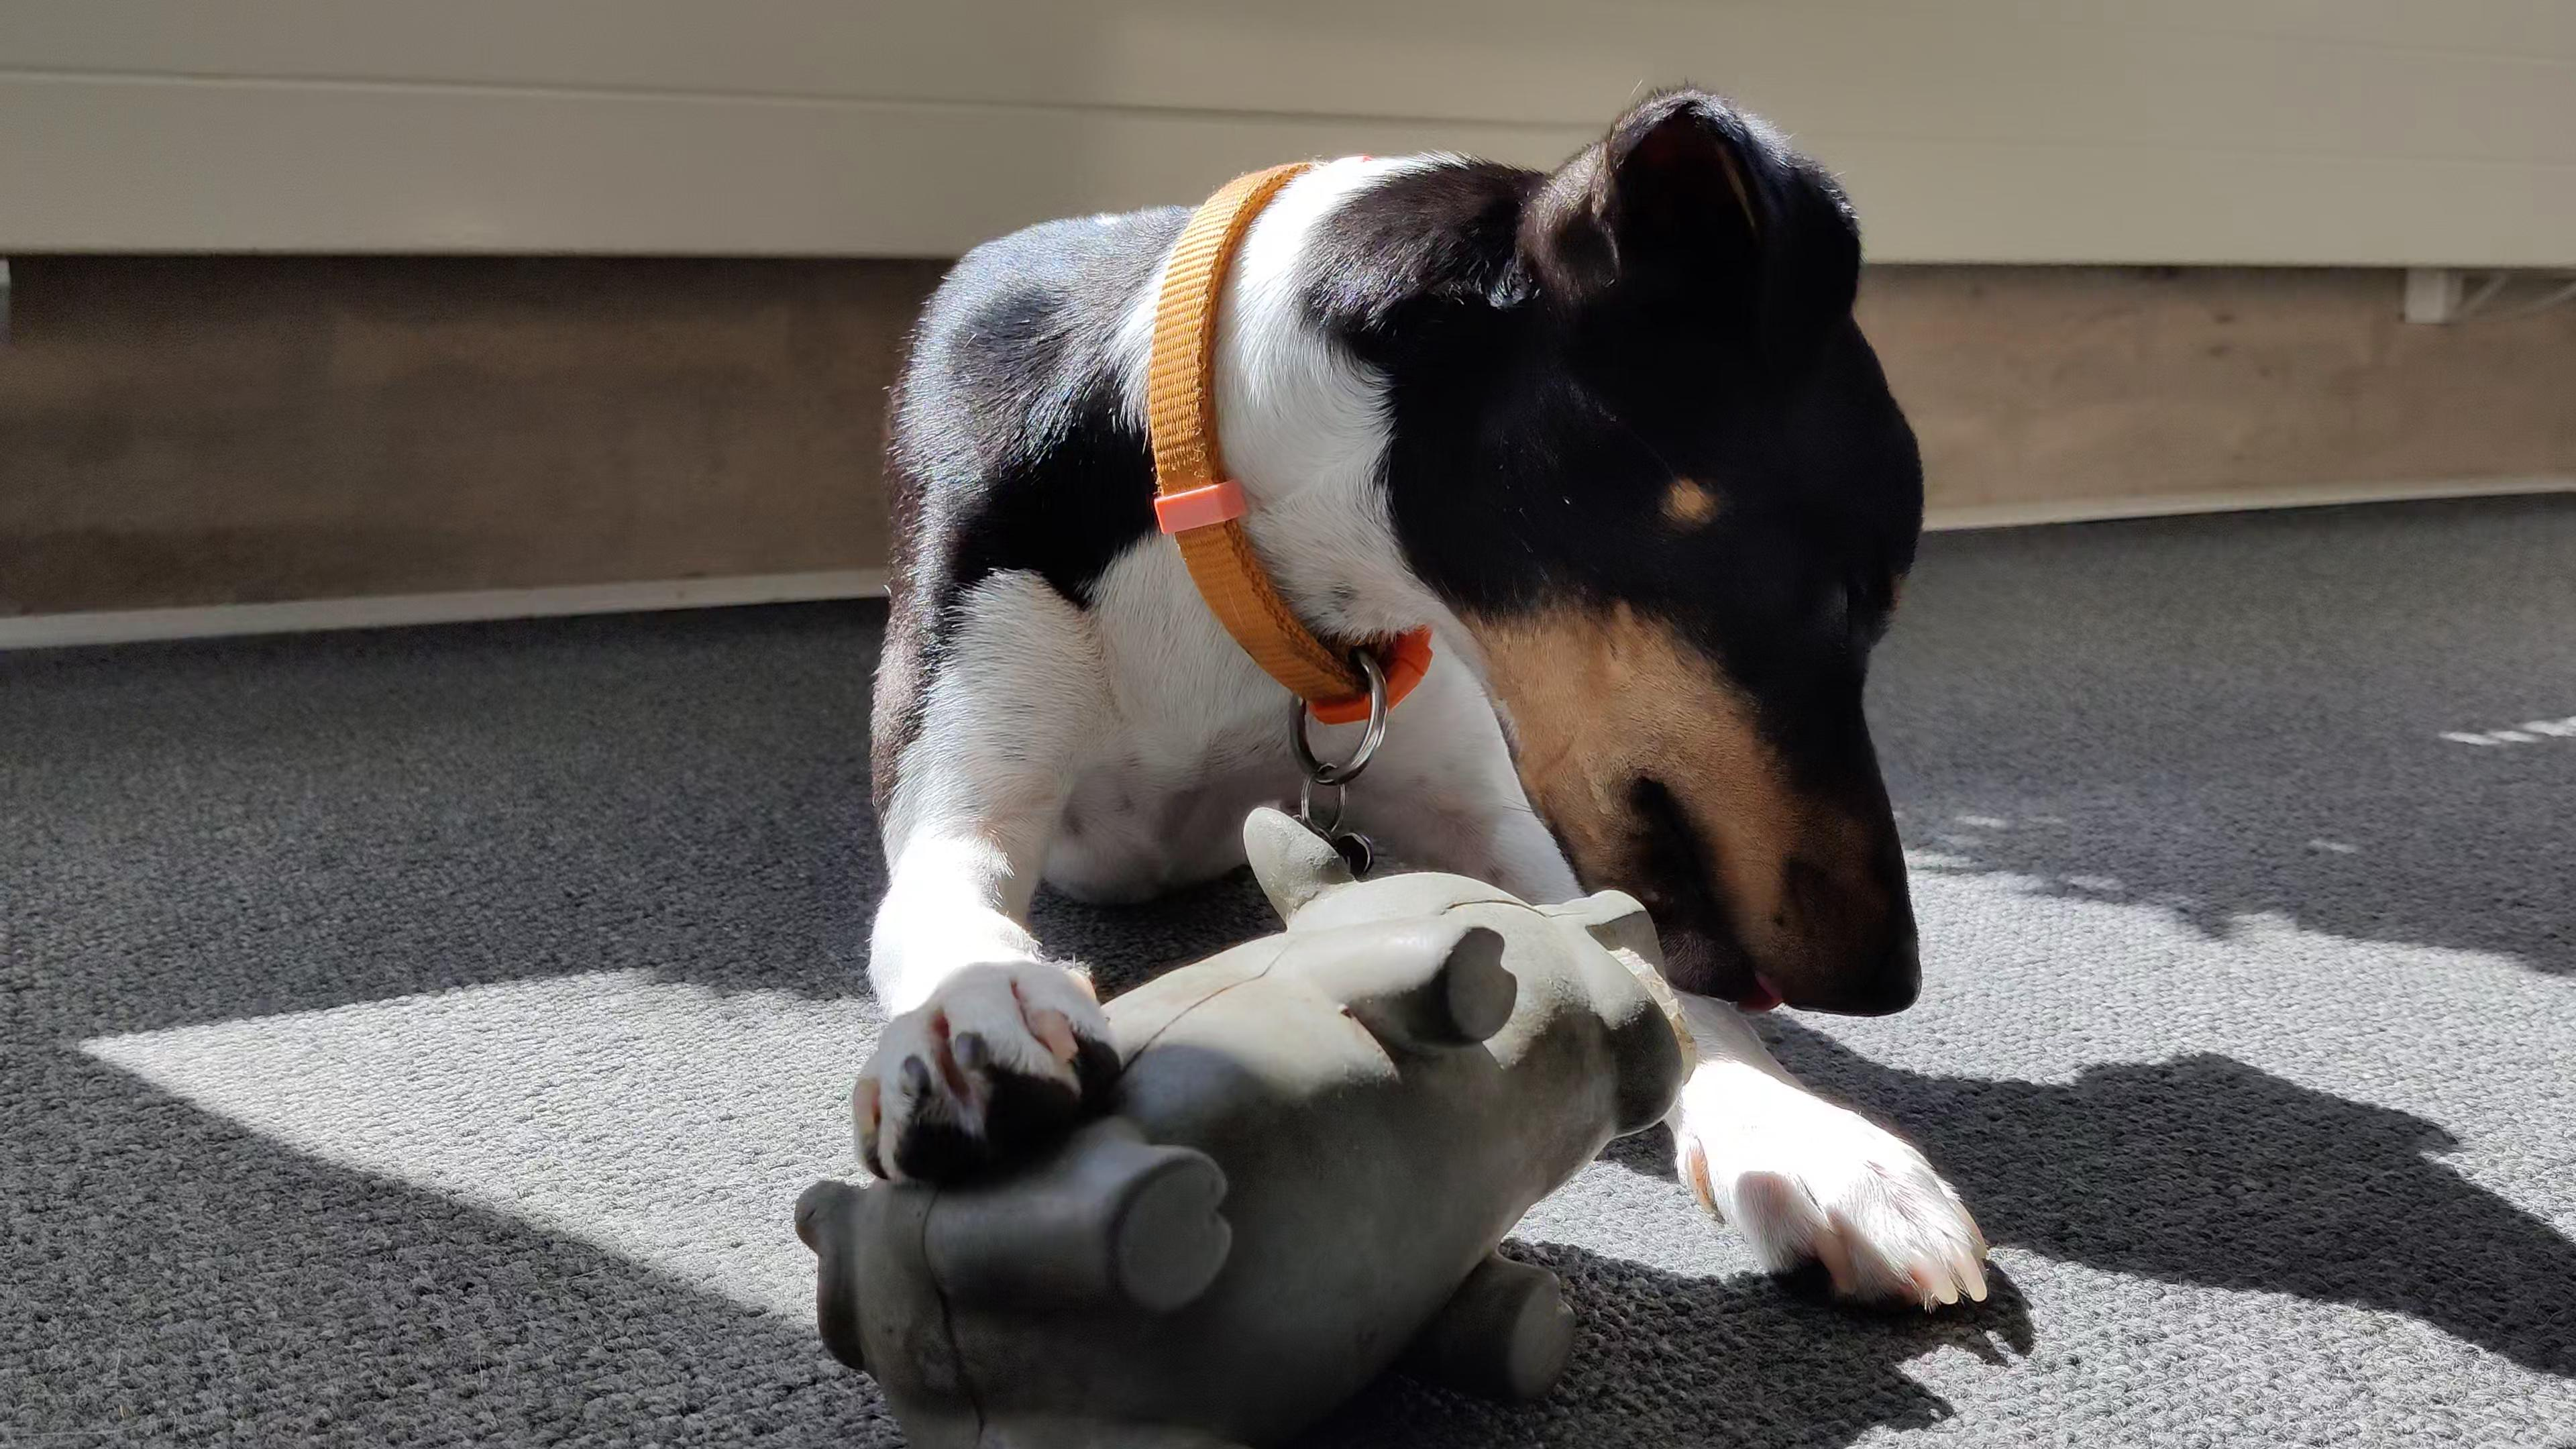Dog: (833, 73, 2019, 1320)
